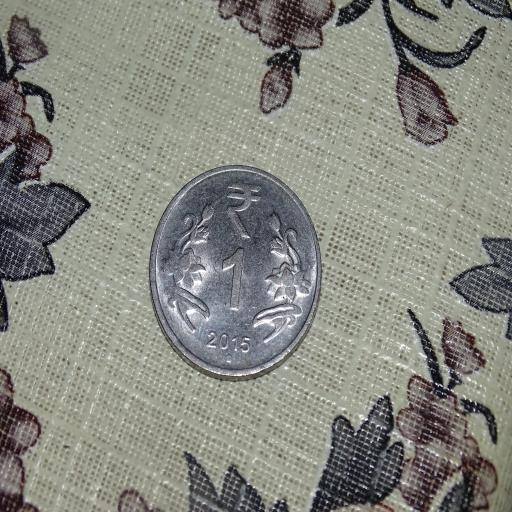rupee1: (148, 164, 324, 381)
